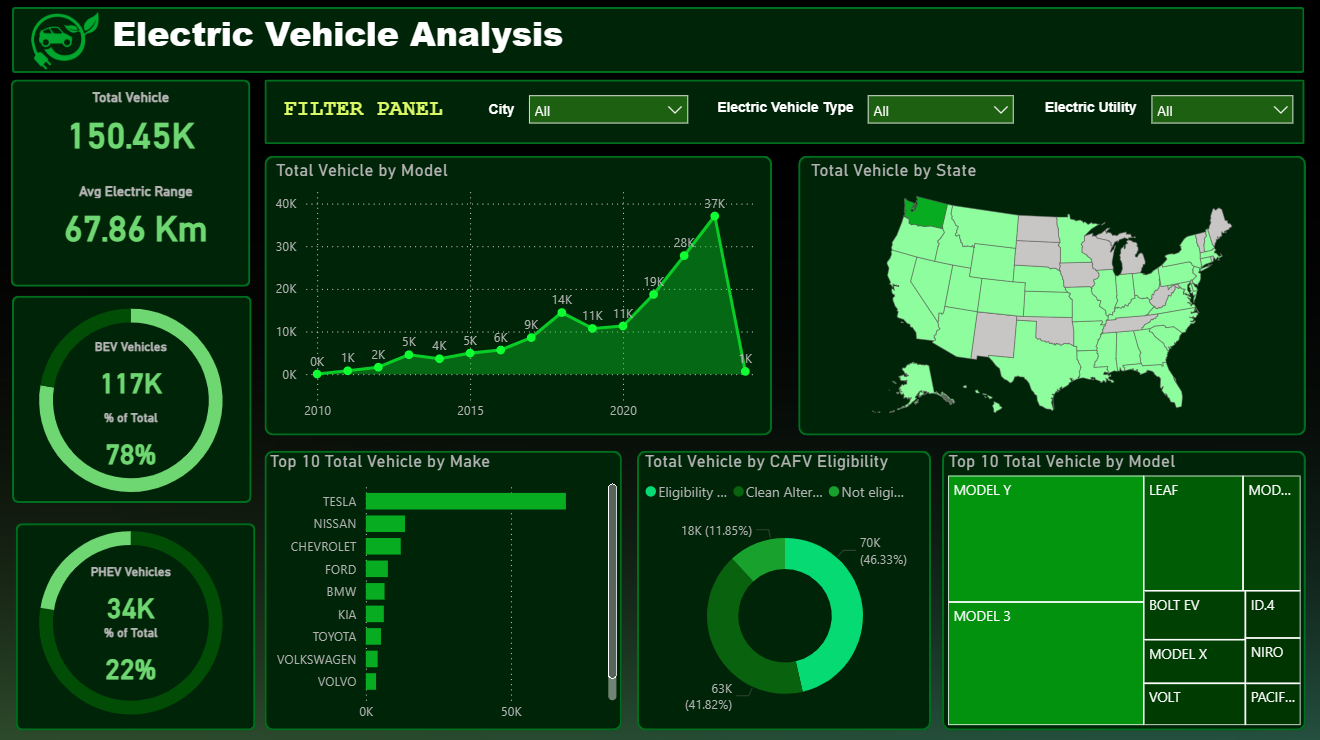

The page's visual inventory and layout, read from the dashboard file:
{"tool":"powerbi","page":{"name":"Page 1","canvas":[1280,720],"ordinal":0},"visuals":[{"type":"group","id":"g1","title":"Title Group","box":[15,10,1247.5,63.8],"z":0},{"type":"shape","box":[15,10,1247.5,63.8],"z":0,"group":"g1"},{"type":"shape","box":[13.8,80,231.2,200],"z":0,"group":"g2"},{"type":"shape","box":[258.8,80,1003.8,62.5],"z":0,"group":"g5"},{"type":"shape","box":[258.8,153.8,490,270],"z":0,"group":"g7"},{"type":"shape","box":[773.8,153.8,490,270],"z":0,"group":"g6"},{"type":"shape","box":[15,288.8,231.2,200],"z":0,"group":"g3"},{"type":"shape","box":[258.8,437.5,345,270],"z":0,"group":"g8"},{"type":"shape","box":[617.5,437.5,283.8,270],"z":0,"group":"g9"},{"type":"shape","box":[912.5,437.5,351.2,270],"z":0,"group":"g10"},{"type":"shape","box":[17.5,507.6,231.2,200],"z":0,"group":"g4"},{"type":"textbox","box":[105,15,446.2,58.8],"z":1000,"group":"g1"},{"type":"group","id":"g2","title":"KPI Group","box":[13.8,80,231.2,200],"z":1000},{"type":"textbox","box":[272.6,92.5,196.2,37.5],"z":1000,"group":"g5"},{"type":"stackedAreaChart","title":"Total Vehicle by Model","fields":{"Y":["aMeasure table (2).Total Vehicle"],"Category":["Electric_Vehicle_Population_Data.Model Year"]},"box":[265,157.6,476.2,261.2],"z":1000,"group":"g7"},{"type":"shapeMap","fields":{"Category":["Electric_Vehicle_Population_Data.State"],"Value":["aMeasure table (2).Total Vehicle"]},"box":[781.3,157.6,476.2,261.2],"z":1000,"group":"g6"},{"type":"card","title":"Avg Electric Range","fields":{"Values":["aMeasure table (2).Avg Electric Range"]},"box":[45,180,178.8,68.8],"z":1000,"group":"g2"},{"type":"donutChart","fields":{"Category":["Electric_Vehicle_Population_Data.Electric Vehicle Type"],"Y":["aMeasure table (2).Total Vehicle"]},"box":[0,273.8,258.8,231.2],"z":1000,"group":"g3"},{"type":"barChart","title":"Top 10 Total Vehicle by Make","fields":{"Y":["aMeasure table (2).Total Vehicle"],"Category":["Electric_Vehicle_Population_Data.Make"]},"box":[258.8,437.5,345,270],"z":1000,"group":"g8"},{"type":"donutChart","title":"Total Vehicle by CAFV Eligibility","fields":{"Y":["aMeasure table (2).Total Vehicle"],"Category":["Electric_Vehicle_Population_Data.Clean Alternative Fuel Vehicle (CAFV) Eligibility"]},"box":[620,437.5,281.2,270],"z":1000,"group":"g9"},{"type":"treemap","title":"Top 10 Total Vehicle by Model","fields":{"Values":["aMeasure table (2).Total Vehicle"],"Group":["Electric_Vehicle_Population_Data.Model"]},"box":[913.7,437.5,350,270],"z":1000,"group":"g10"},{"type":"donutChart","fields":{"Category":["Electric_Vehicle_Population_Data.Electric Vehicle Type"],"Y":["aMeasure table (2).Total Vehicle"]},"box":[0,488.8,258.8,231.2],"z":1000,"group":"g4"},{"type":"card","title":"Total Vehicle","fields":{"Values":["aMeasure table (2).Total Vehicle"]},"box":[40,90,178.8,68.8],"z":2000,"group":"g2"},{"type":"textbox","box":[470,95,66.2,32.5],"z":2000,"group":"g5"},{"type":"group","id":"g3","title":"BEV Vehicle Group","box":[0,273.8,258.8,231.2],"z":2000},{"type":"card","title":"BEV Vehicles","fields":{"Values":["aMeasure table (2).BEV Vehicles"]},"box":[40,330,178.8,68.8],"z":2000,"group":"g3"},{"type":"card","title":"PHEV Vehicles","fields":{"Values":["aMeasure table (2).PHEV Vehicle"]},"box":[40,547.6,178.8,68.8],"z":2000,"group":"g4"},{"type":"textbox","box":[691.3,92.5,188.8,37.5],"z":3000,"group":"g5"},{"type":"card","title":"% of Total","fields":{"Values":["aMeasure table (2).BEV Percentage"]},"box":[40,398.8,178.8,68.8],"z":3000,"group":"g3"},{"type":"group","id":"g4","title":"PHEV Vehicle Group","box":[0,488.8,258.8,231.2],"z":3000},{"type":"card","title":"% of Total","fields":{"Values":["aMeasure table (2).PHEV Percentage"]},"box":[40,607.6,178.8,68.8],"z":3000,"group":"g4"},{"type":"group","id":"g5","title":"Filter  Panel Group","box":[258.8,80,1003.8,62.5],"z":4000},{"type":"textbox","box":[1006.3,92.5,198.8,37.5],"z":4000,"group":"g5"},{"type":"slicer","fields":{"Values":["Electric_Vehicle_Population_Data.Electric Utility"]},"box":[1105,85,157.5,52.5],"z":5000,"group":"g5"},{"type":"group","id":"g6","title":"Tot Vehicles By State Group","box":[773.8,153.8,490,270],"z":5000},{"type":"slicer","fields":{"Values":["Electric_Vehicle_Population_Data.City"]},"box":[503.8,85,173.8,52.5],"z":6000,"group":"g5"},{"type":"group","id":"g7","title":"Tot Vehicles By Model Group","box":[258.8,153.8,490,270],"z":6000},{"type":"slicer","fields":{"Values":["Electric_Vehicle_Population_Data.Electric Vehicle Type"]},"box":[830,85,161.2,52.5],"z":7000,"group":"g5"},{"type":"group","id":"g8","title":"Top 10 Tot Vehicles by Make","box":[258.8,437.5,345,270],"z":7000},{"type":"group","id":"g9","title":"Total vehicles by CAFV Eligibility","box":[617.5,437.5,283.8,270],"z":8000},{"type":"group","id":"g10","title":"Top 10 Total Vehicles by Model","box":[912.5,437.5,351.2,270],"z":9000},{"type":"image","box":[21.2,8.8,87.5,67.5],"z":9001}]}

Visuals, with their boxes in screenshot pixels (x1, y1, x2, y2), scaled from the page's 1280x720 canvas onto the 1320x740 screenshot:
"Title Group" group: bbox(15, 10, 1302, 76)
shape: bbox(15, 10, 1302, 76)
shape: bbox(14, 82, 253, 288)
shape: bbox(267, 82, 1302, 146)
shape: bbox(267, 158, 772, 436)
shape: bbox(798, 158, 1303, 436)
shape: bbox(15, 297, 254, 502)
shape: bbox(267, 450, 623, 727)
shape: bbox(637, 450, 929, 727)
shape: bbox(941, 450, 1303, 727)
shape: bbox(18, 522, 256, 727)
textbox: bbox(108, 15, 568, 76)
"KPI Group" group: bbox(14, 82, 253, 288)
textbox: bbox(281, 95, 483, 134)
"Total Vehicle by Model" stackedAreaChart: bbox(273, 162, 764, 430)
shapeMap - Electric_Vehicle_Population_Data.State x aMeasure table (2).Total Vehicle: bbox(806, 162, 1297, 430)
"Avg Electric Range" card: bbox(46, 185, 231, 256)
donutChart - Electric_Vehicle_Population_Data.Electric Vehicle Type x aMeasure table (2).Total Vehicle: bbox(0, 281, 267, 519)
"Top 10 Total Vehicle by Make" barChart: bbox(267, 450, 623, 727)
"Total Vehicle by CAFV Eligibility" donutChart: bbox(639, 450, 929, 727)
"Top 10 Total Vehicle by Model" treemap: bbox(942, 450, 1303, 727)
donutChart - Electric_Vehicle_Population_Data.Electric Vehicle Type x aMeasure table (2).Total Vehicle: bbox(0, 502, 267, 739)
"Total Vehicle" card: bbox(41, 92, 226, 163)
textbox: bbox(485, 98, 553, 131)
"BEV Vehicle Group" group: bbox(0, 281, 267, 519)
"BEV Vehicles" card: bbox(41, 339, 226, 410)
"PHEV Vehicles" card: bbox(41, 563, 226, 634)
textbox: bbox(713, 95, 908, 134)
"% of Total" card: bbox(41, 410, 226, 481)
"PHEV Vehicle Group" group: bbox(0, 502, 267, 739)
"% of Total" card: bbox(41, 624, 226, 695)
"Filter  Panel Group" group: bbox(267, 82, 1302, 146)
textbox: bbox(1038, 95, 1243, 134)
slicer - Electric_Vehicle_Population_Data.Electric Utility: bbox(1140, 87, 1302, 141)
"Tot Vehicles By State Group" group: bbox(798, 158, 1303, 436)
slicer - Electric_Vehicle_Population_Data.City: bbox(520, 87, 699, 141)
"Tot Vehicles By Model Group" group: bbox(267, 158, 772, 436)
slicer - Electric_Vehicle_Population_Data.Electric Vehicle Type: bbox(856, 87, 1022, 141)
"Top 10 Tot Vehicles by Make" group: bbox(267, 450, 623, 727)
"Total vehicles by CAFV Eligibility" group: bbox(637, 450, 929, 727)
"Top 10 Total Vehicles by Model" group: bbox(941, 450, 1303, 727)
image: bbox(22, 9, 112, 78)
